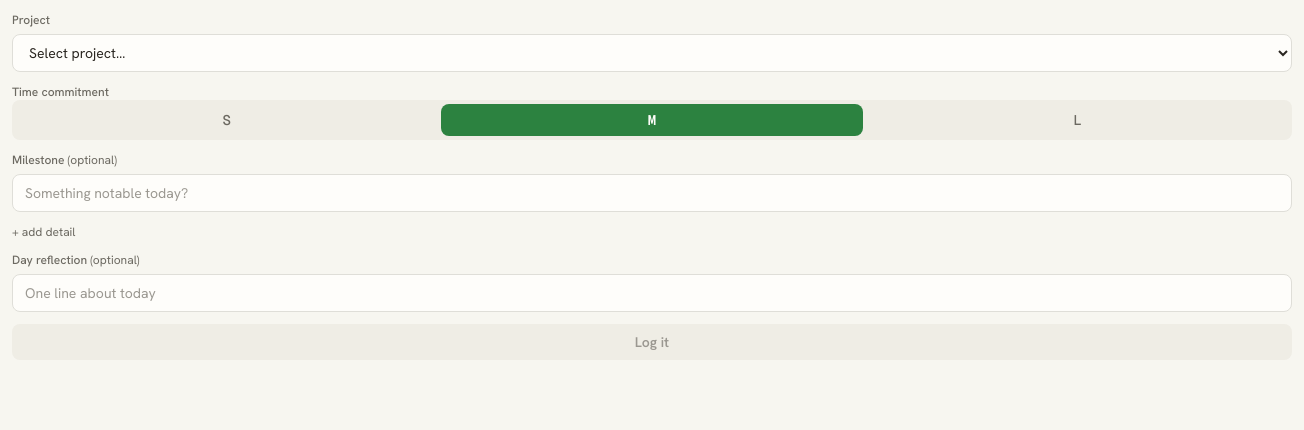
Test case: quick add › surfaces a reflection save failure without losing the logged entry
The width and height of the screenshot is (1304, 430).
Select "Work" in the dropdown labelled "Project" at x=652, y=53, box x1=12 y1=34 x2=1292 y2=72
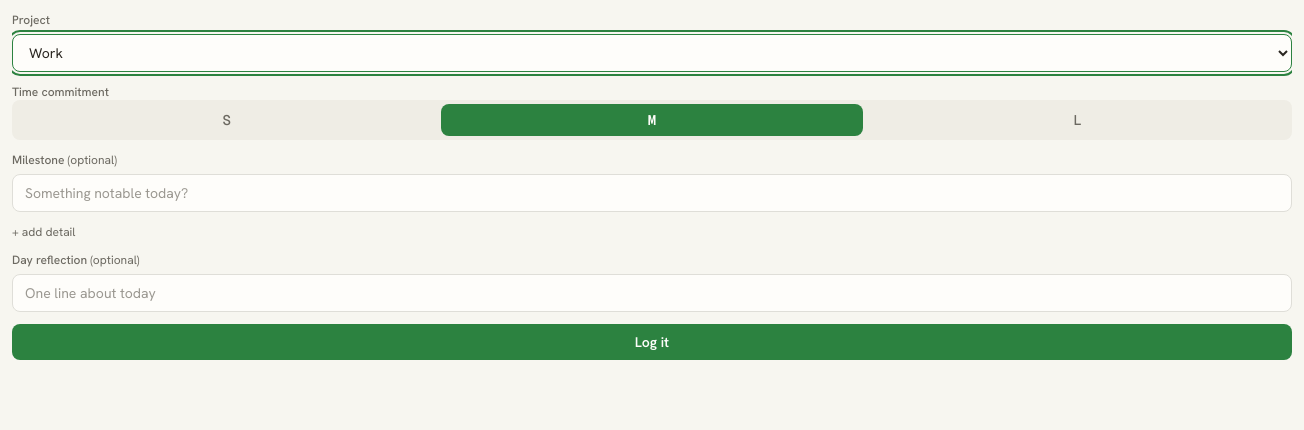
Click the button named "Small" at x=227, y=120, box x1=16 y1=104 x2=437 y2=136
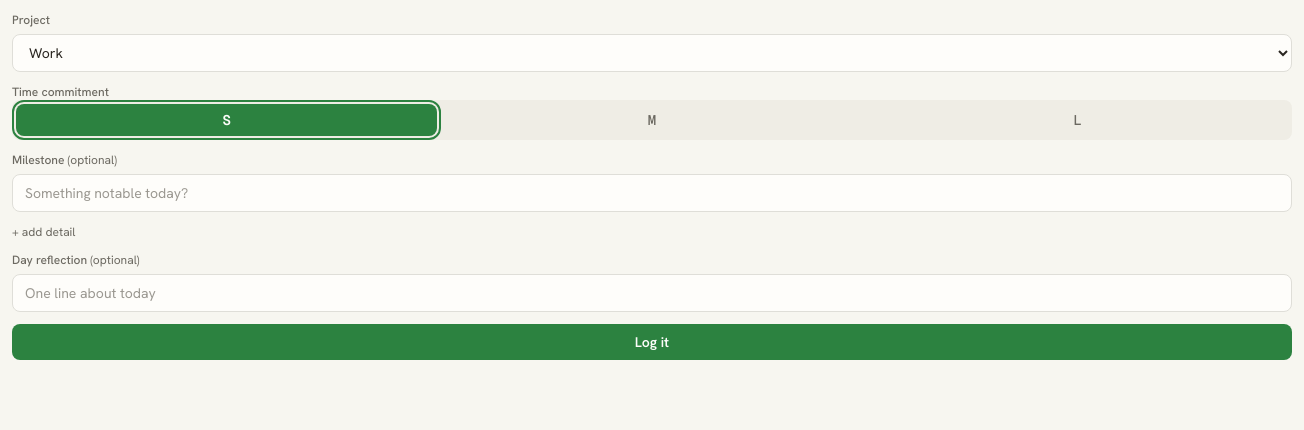
Type "half a line" into the field labelled "Day reflection (optional)" at x=652, y=293, box x1=12 y1=274 x2=1292 y2=312
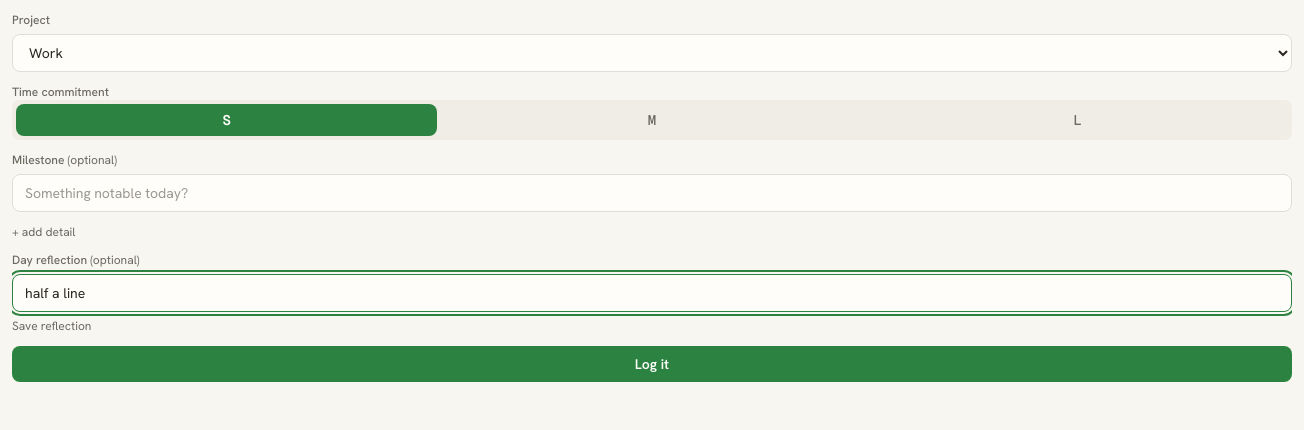
Click the button "Log it" at x=652, y=364, box x1=12 y1=346 x2=1292 y2=382
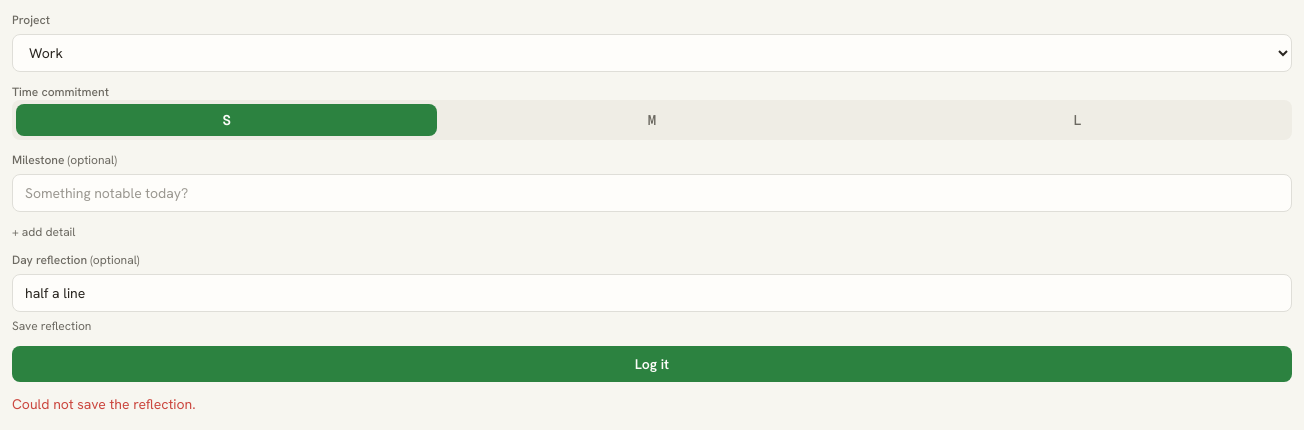
Now the text "Could not save the reflection." is shown, box x1=12 y1=395 x2=196 y2=413
